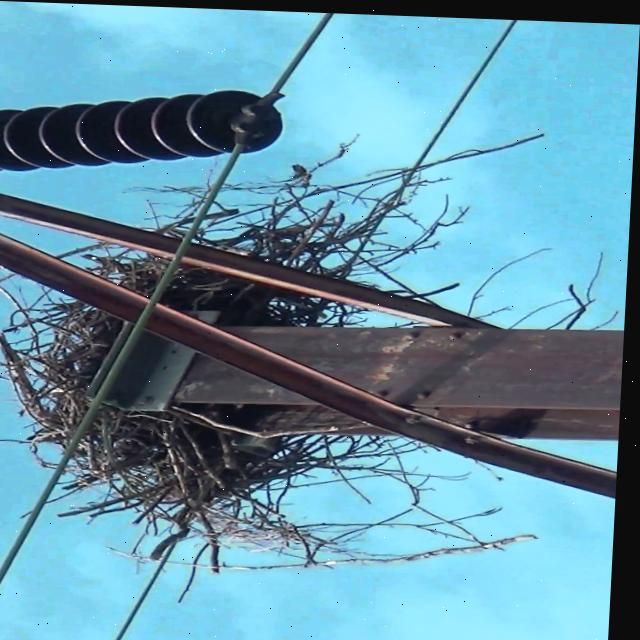obstruction: (57, 403, 539, 602), (195, 127, 550, 298), (0, 264, 125, 468), (164, 263, 375, 321), (508, 245, 627, 324), (126, 155, 226, 237), (171, 399, 377, 438), (469, 240, 554, 317), (59, 240, 172, 296)
poles: (153, 303, 619, 492), (177, 308, 627, 436), (111, 331, 404, 431), (188, 241, 504, 324), (0, 88, 289, 171), (0, 232, 149, 320), (0, 192, 184, 253)
wires: (0, 140, 246, 597), (415, 15, 517, 162), (121, 544, 179, 640), (272, 9, 334, 90), (273, 9, 331, 88)
